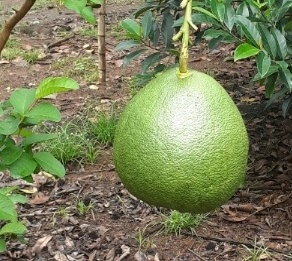Buoi: (118, 49, 252, 224)
